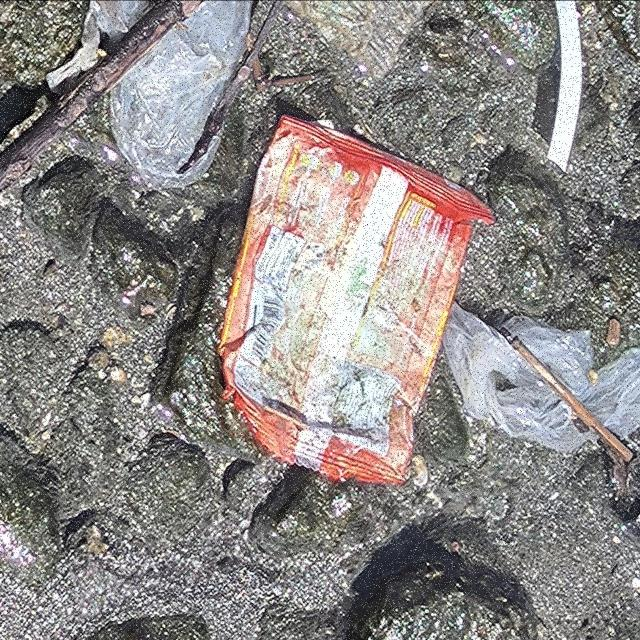plastic_waste: (219, 113, 496, 488)
